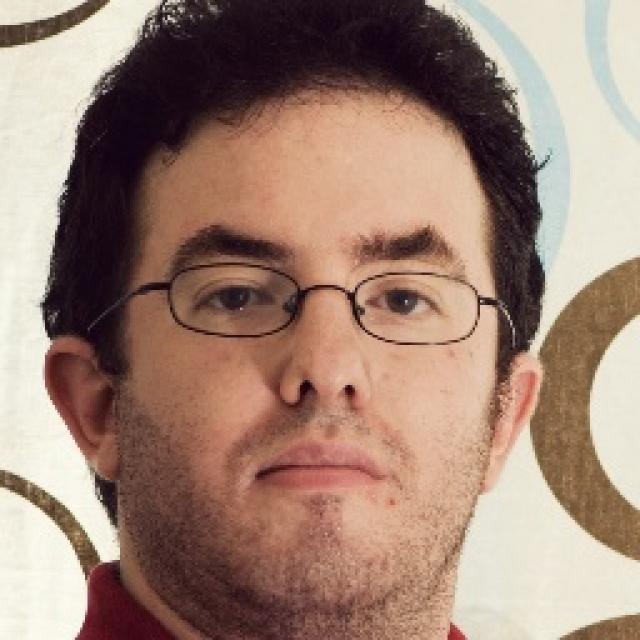earlobe: (88, 432, 122, 482), (479, 445, 508, 494)
eye: (366, 284, 443, 320), (197, 282, 273, 313)
nose: (274, 374, 380, 438)
wholeear: (41, 334, 122, 482), (479, 352, 543, 493)
